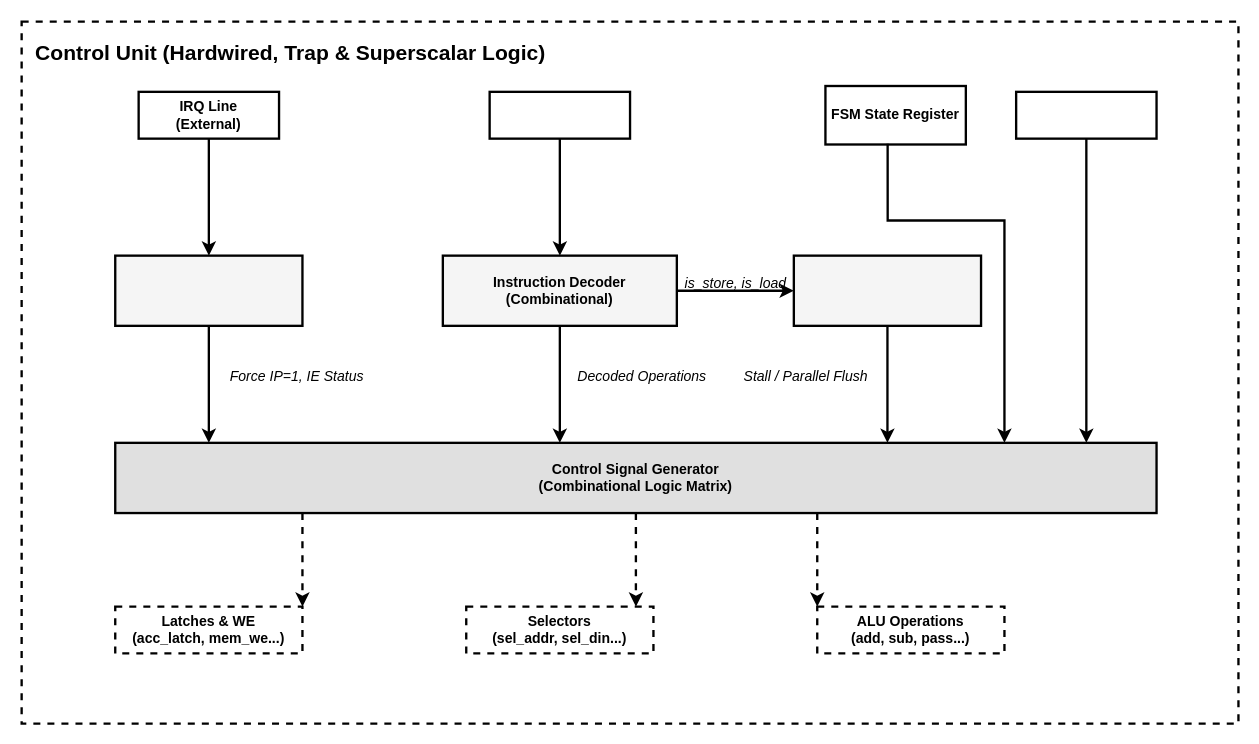
Some shapes in this 1259 by 744 pixel diagram are drawn without their labels. The centre of each missing label's shape, as x and y in pixels:
"ALU Flags (Z, N)" belongs at [1085,114].
"Hazard Unit [Shadow Flip-Flop]" belongs at [887,290].
"IR [Opcode] (8 bit)" belongs at [559,114].
"Trap Controller [IE Flip-Flop]" belongs at [208,290].
